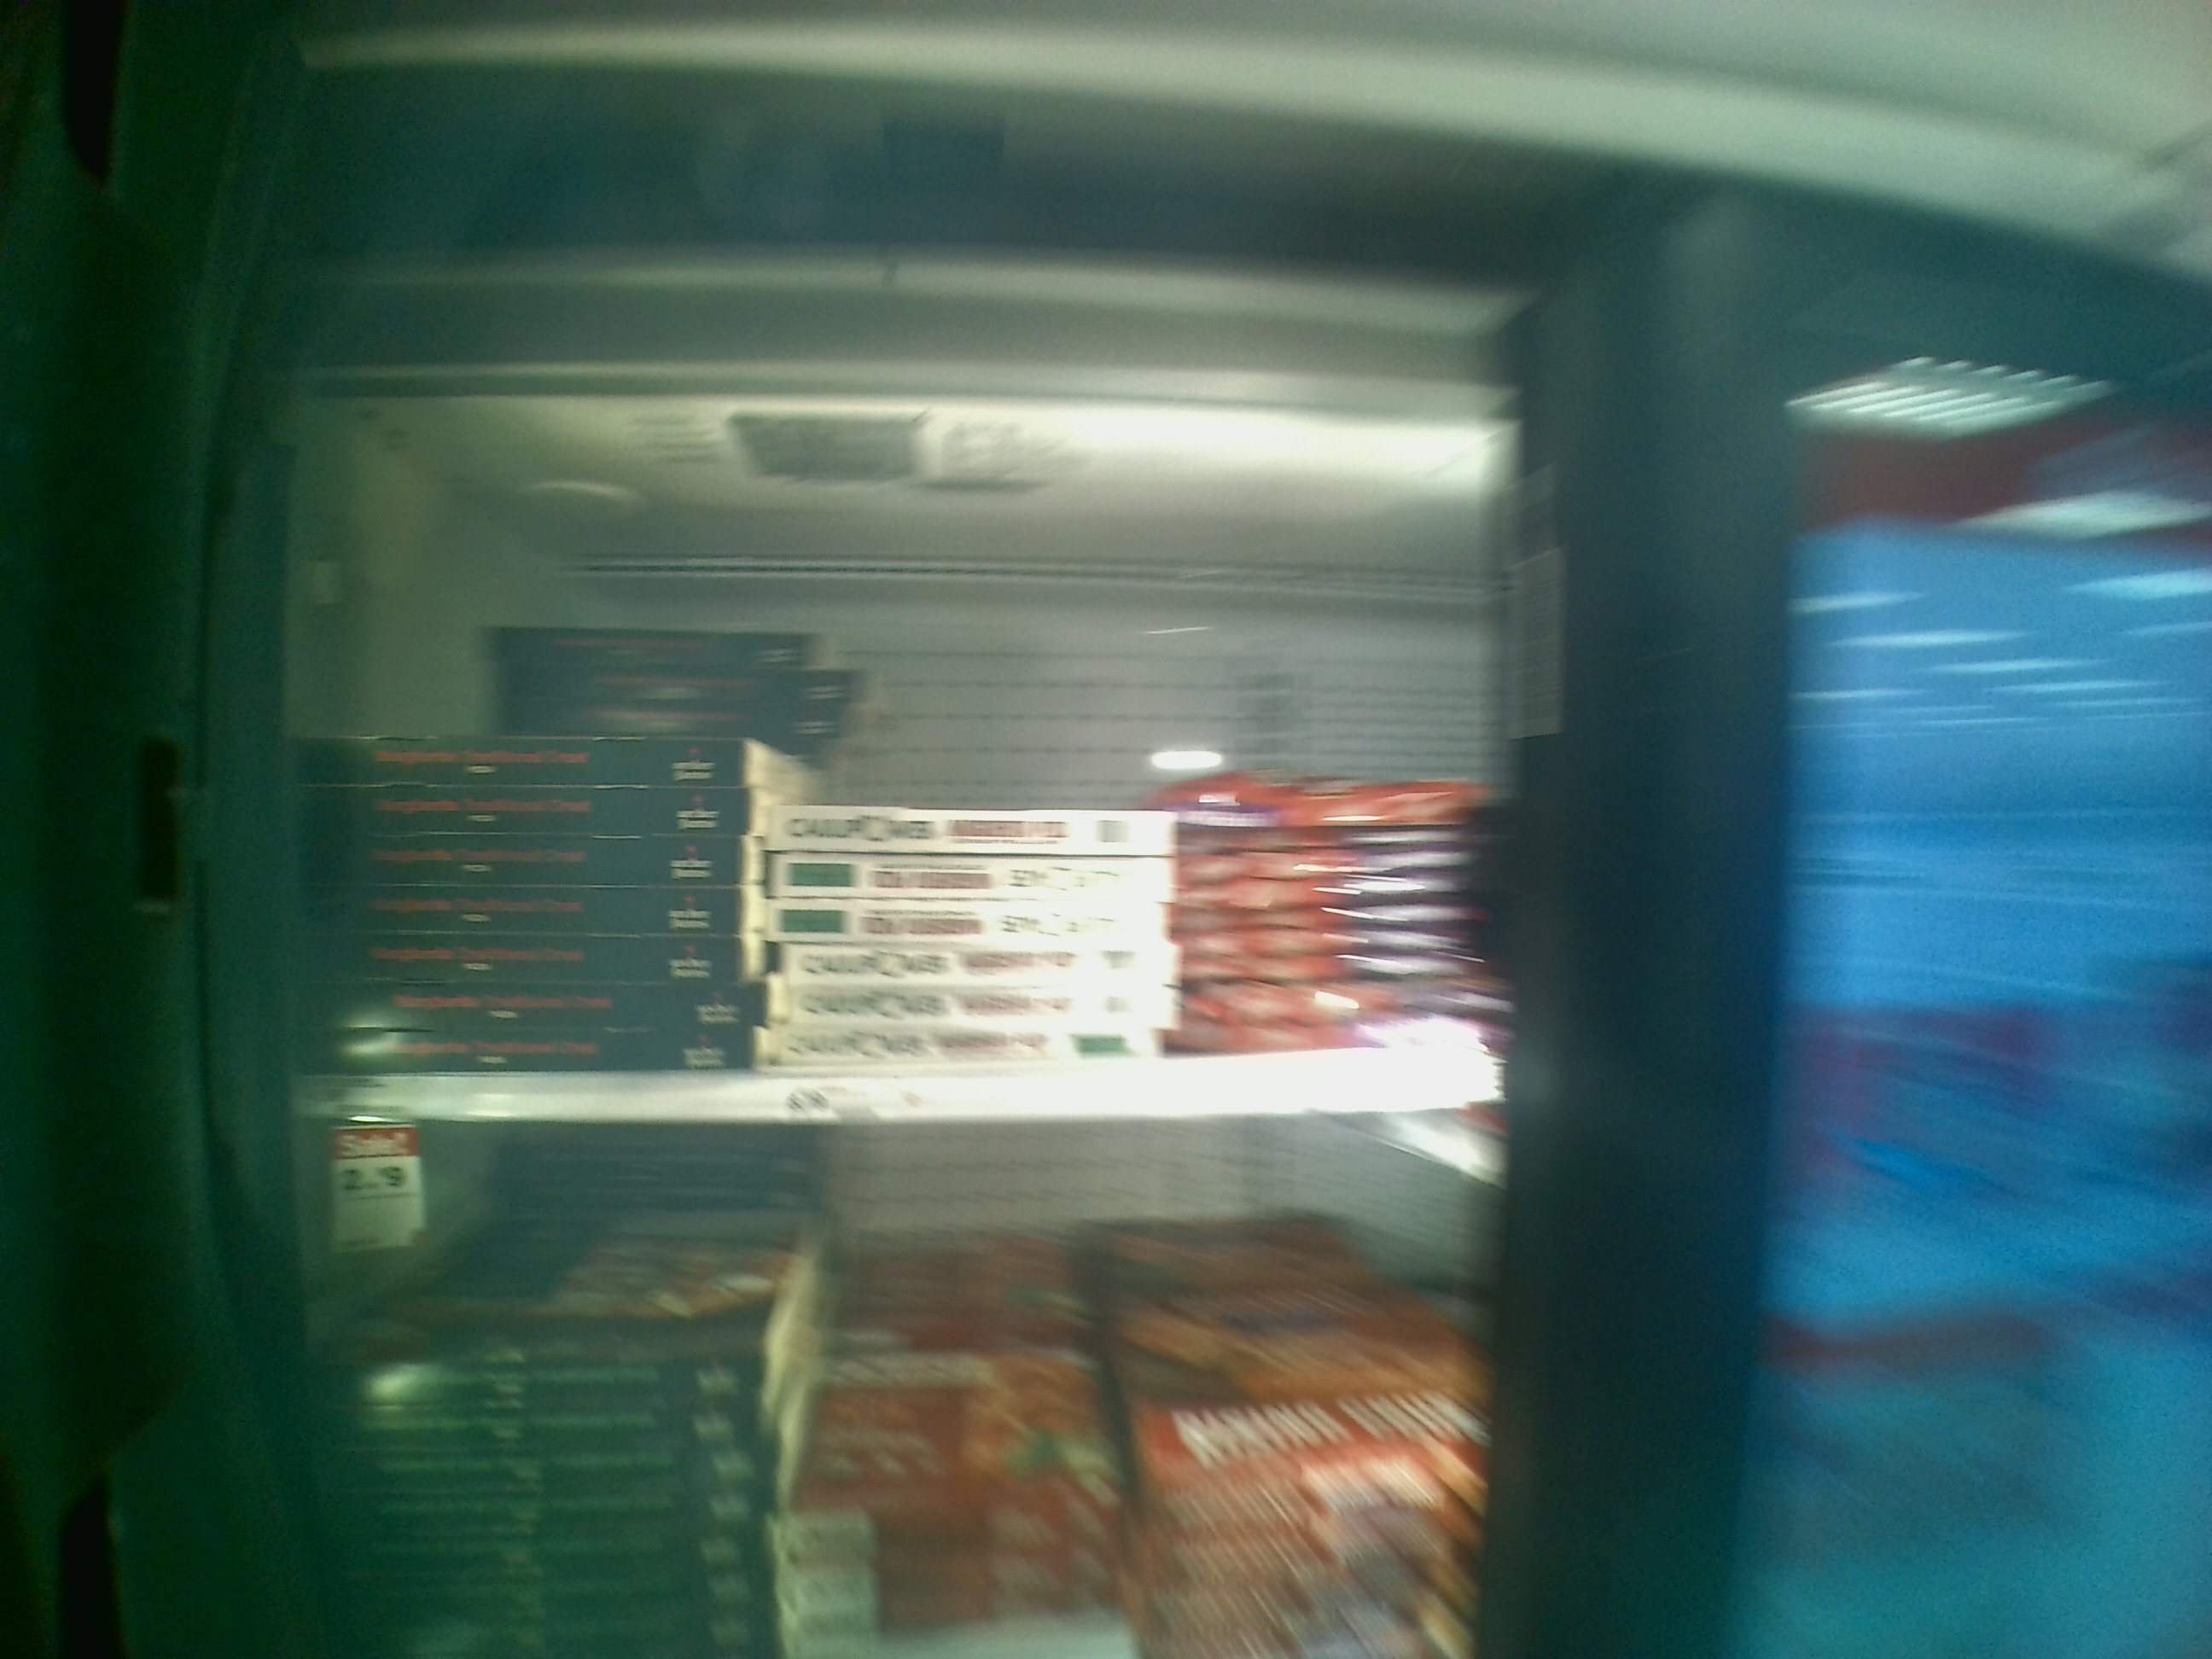shelf: (303, 444, 1519, 1117)
